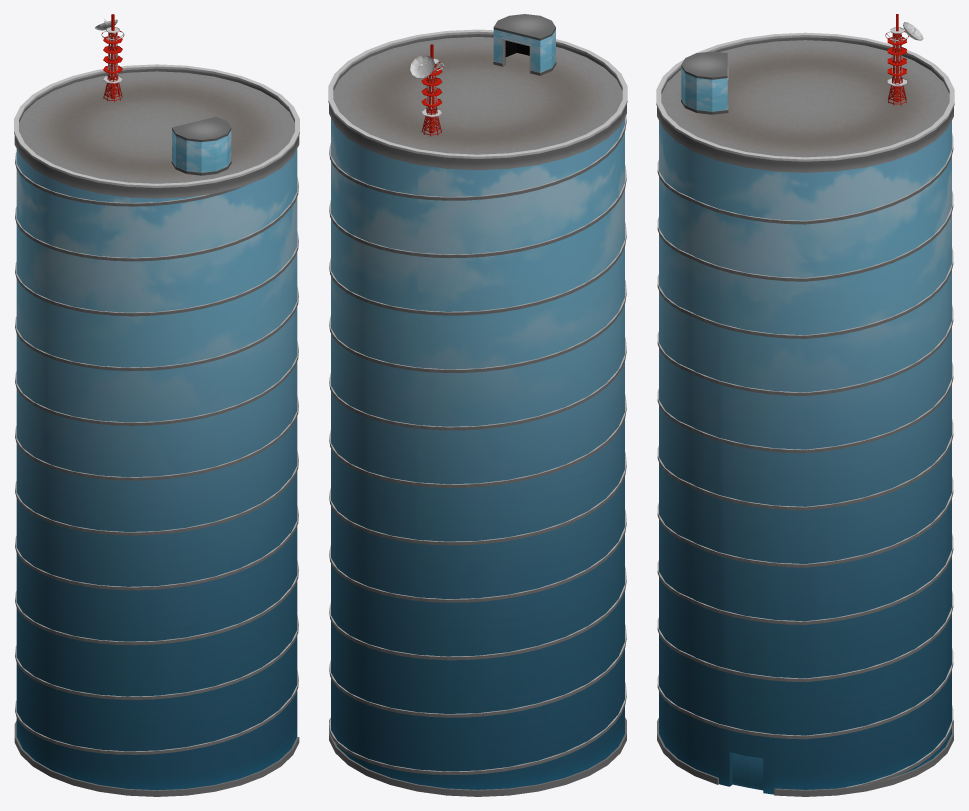
File: stage3.fbx
3 renders of one model, left to right at view 1: azimuth 30°, elevation 25°; view 2: azimuth 150°, elevation 25°; view 3: azimuth 270°, elevation 25°, orthographic. The views are drawn at different scales.
Visible parts, largest first — view 1: polySurface42, buildingParts_3, polySurface30, buildingParts_4, pCylinder25, polySurface32, polySurface22, polySurface13; view 2: polySurface42, buildingParts_3, polySurface30, buildingParts_4, pCylinder25, polySurface32, polySurface13; view 3: polySurface42, buildingParts_3, polySurface30, buildingParts_4, pCylinder25, polySurface32, polySurface22, polySurface44, polySurface13.
Boxes of the visible parts, x1,y1,x2,y2 form: polySurface42: [16, 149, 297, 790]; buildingParts_3: [14, 68, 299, 198]; polySurface30: [15, 152, 298, 754]; buildingParts_4: [14, 64, 299, 187]; pCylinder25: [171, 116, 231, 175]; polySurface32: [14, 721, 299, 796]; polySurface22: [103, 27, 122, 83]; polySurface13: [104, 33, 121, 101]; polySurface42: [331, 118, 624, 789]; buildingParts_3: [329, 34, 626, 170]; polySurface30: [329, 115, 626, 774]; buildingParts_4: [328, 29, 627, 158]; pCylinder25: [493, 14, 556, 75]; polySurface32: [329, 717, 626, 796]; polySurface13: [422, 64, 441, 135]; polySurface42: [659, 121, 951, 794]; buildingParts_3: [657, 37, 953, 172]; polySurface30: [657, 133, 953, 787]; buildingParts_4: [656, 32, 954, 161]; pCylinder25: [681, 51, 728, 114]; polySurface32: [657, 718, 953, 796]; polySurface22: [887, 27, 906, 86]; polySurface44: [732, 753, 748, 787]; polySurface13: [888, 33, 906, 104].
Size of the model in its own units: 54.23 by 144 by 53.93.
